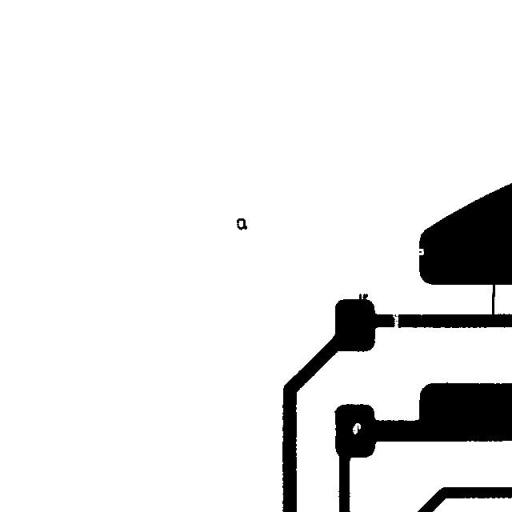copper: (229, 210, 254, 238)
mousebite: (408, 241, 431, 264)
open: (384, 302, 406, 340)
pin-hole: (345, 415, 368, 442)
short: (484, 270, 502, 324)
spur: (351, 286, 375, 311)
